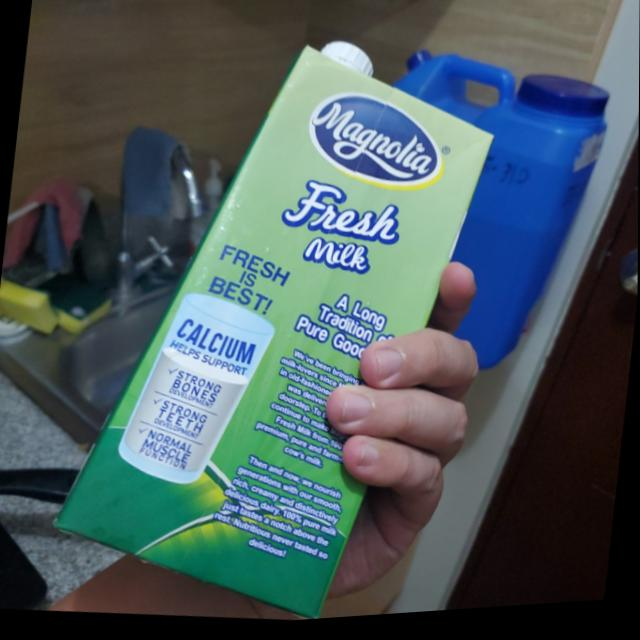milk: (44, 8, 505, 637)
